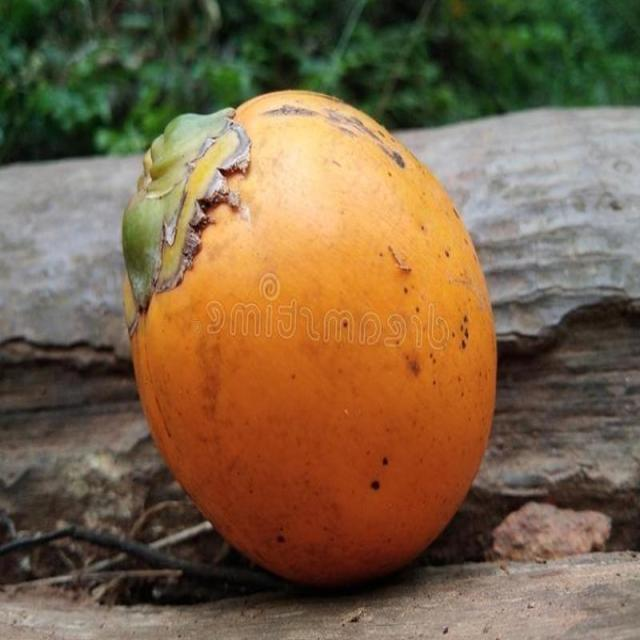good: (121, 91, 498, 593)
